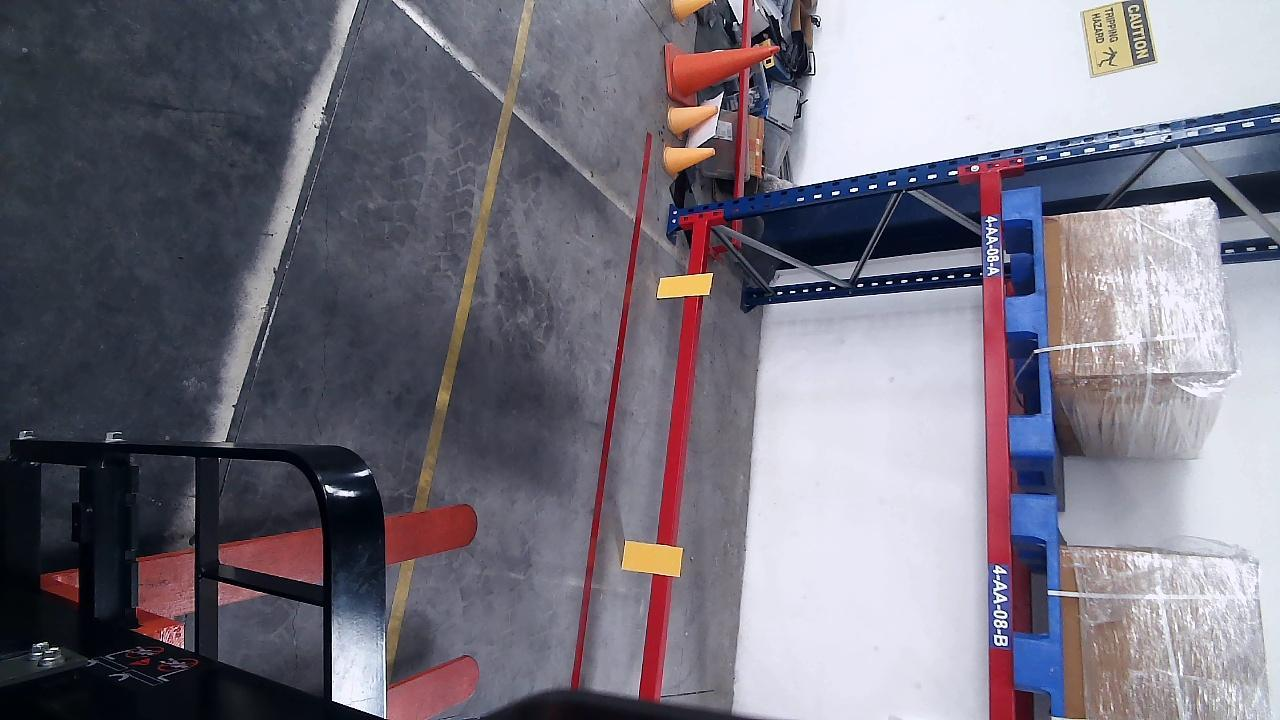h_rack: (642, 222, 706, 699), (976, 172, 1014, 718)
orange_strip: (619, 539, 685, 578), (656, 274, 713, 298)
red_line: (572, 134, 657, 685)
small_pallet: (1003, 187, 1046, 449), (1013, 493, 1066, 692)
yellow_line: (384, 2, 534, 690)
